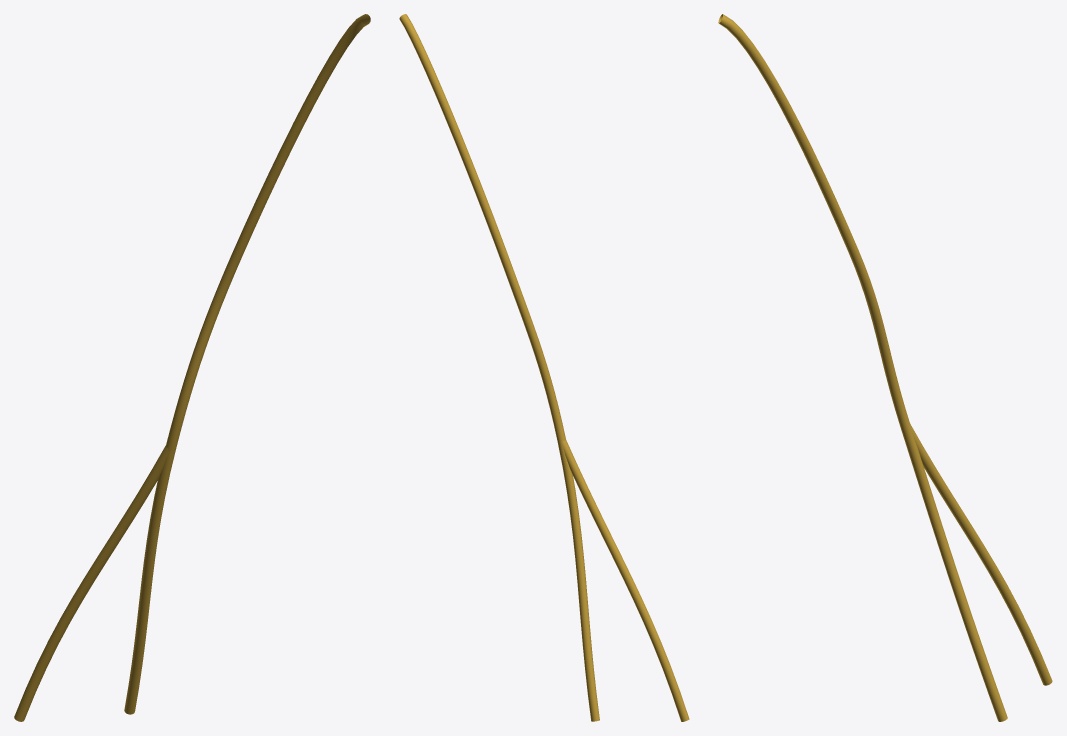
3 views of the same model, side by side, from view 1: azimuth 30°, elevation 25°; view 2: azimuth 210°, elevation 25°; view 3: azimuth 270°, elevation 25° (orthographic). The views are drawn at different scales.
Visible parts, largest first — view 1: 右侧足底内侧神经; view 2: 右侧足底内侧神经; view 3: 右侧足底内侧神经.
Part boxes in pixels (<box>): 右侧足底内侧神经: <box>14,14,370,721</box>; 右侧足底内侧神经: <box>399,14,689,721</box>; 右侧足底内侧神经: <box>718,14,1052,721</box>.
Size of the model in its own units: 0.0289 by 0.1179 by 0.0475.
